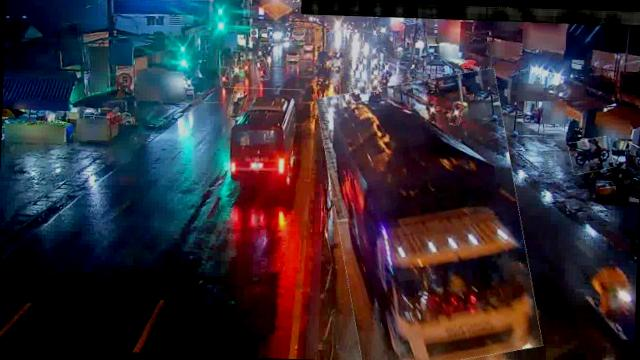Bike: (568, 137, 614, 174), (228, 90, 245, 120), (449, 103, 464, 126), (231, 60, 243, 82), (218, 66, 230, 87), (256, 60, 268, 80), (370, 76, 382, 92), (244, 57, 254, 74), (356, 80, 367, 94)
Bus: (224, 87, 302, 201)
Truck: (320, 69, 538, 360)
